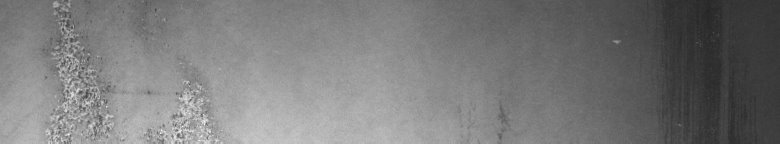hc: (42, 4, 222, 136)
